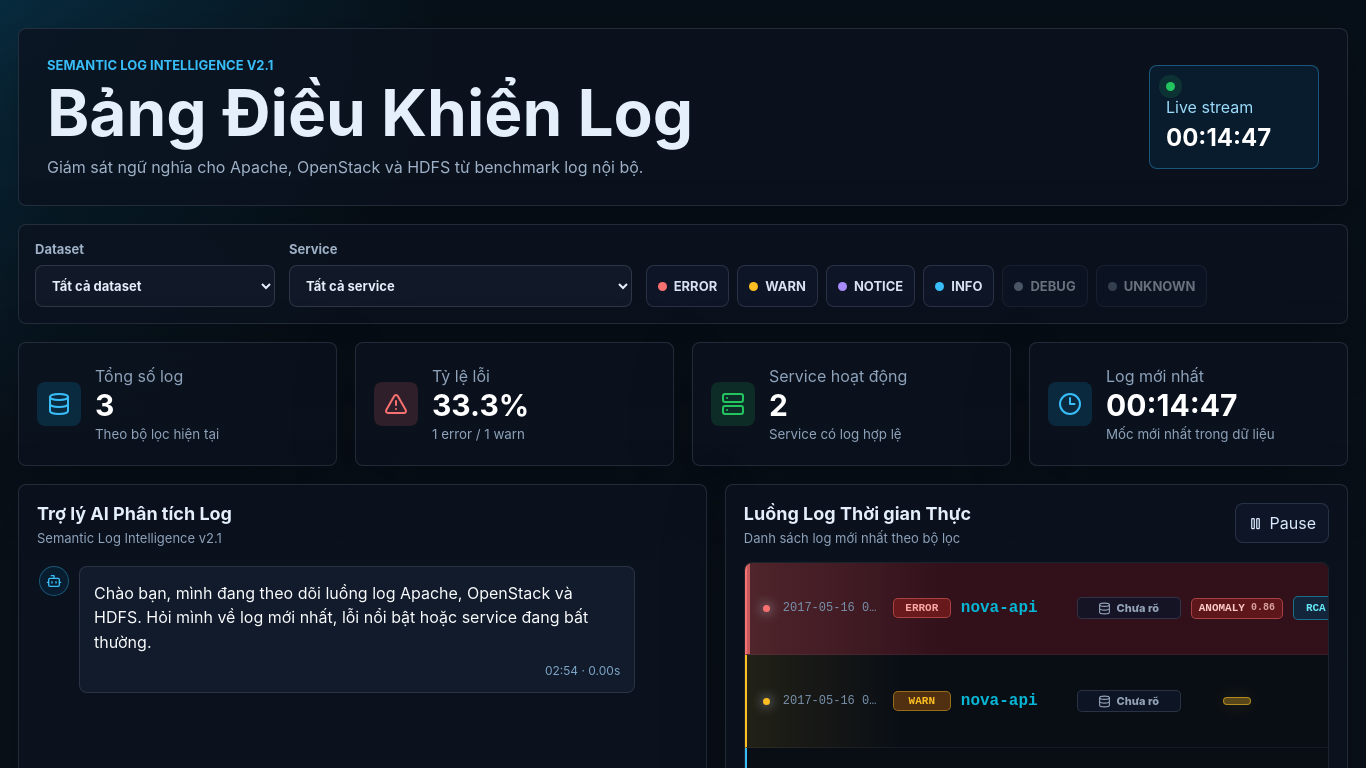
Semantic log React dashboard › marks anomaly log rows and sends an RCA prompt to chat
Expected: the text "ANOMALY" is shown, top-left (1199, 602), bottom-right (1245, 614)
Expected: the text "0.86" is shown, top-left (1251, 603), bottom-right (1275, 613)
Click the button with aria-label "RCA for anomaly openstack-1": (1316, 608) top-left (1293, 596), bottom-right (1339, 620)
(page scrolled)
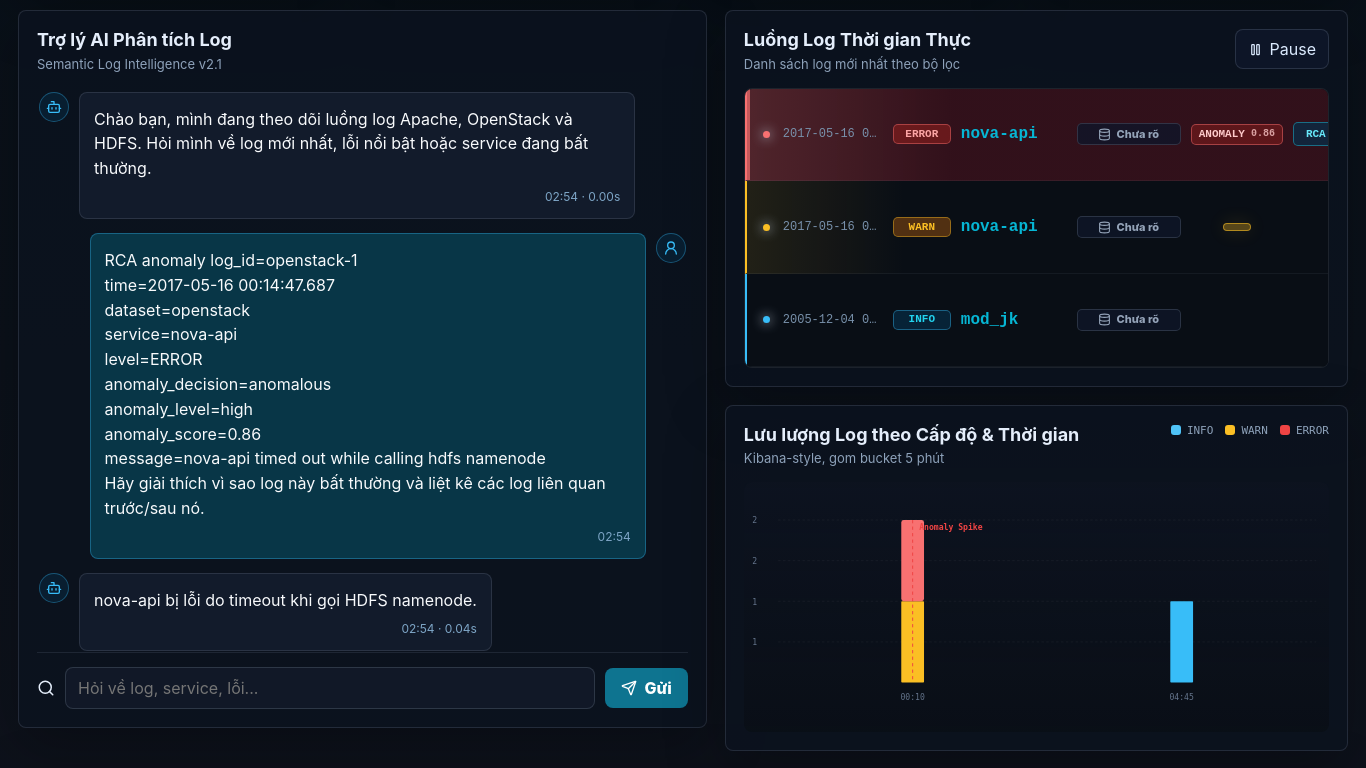
Expected: the text "RCA anomaly log_id=openstack-1" is shown, top-left (105, 250), bottom-right (606, 518)
